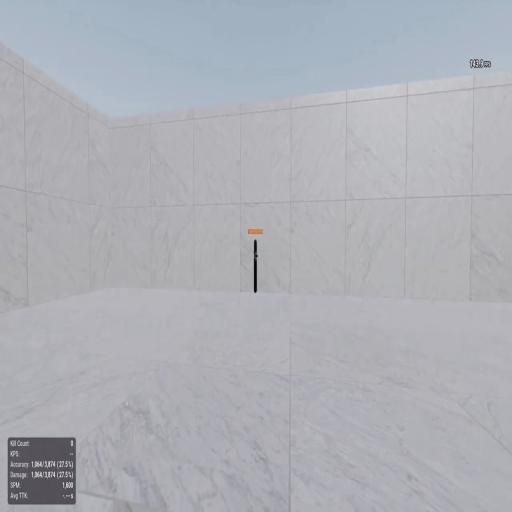Crosshair: (254, 252, 258, 260)
Target: (254, 240, 258, 294)
